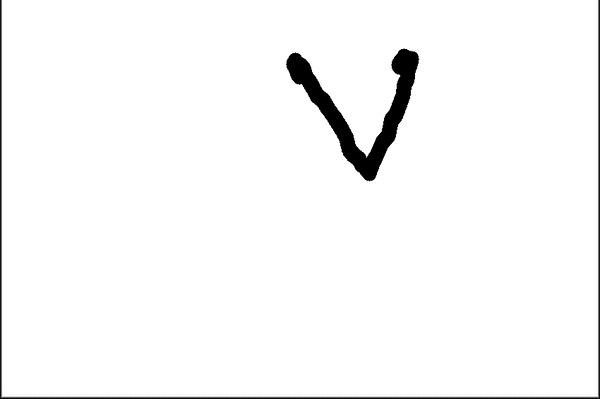V: (277, 36, 437, 185)
